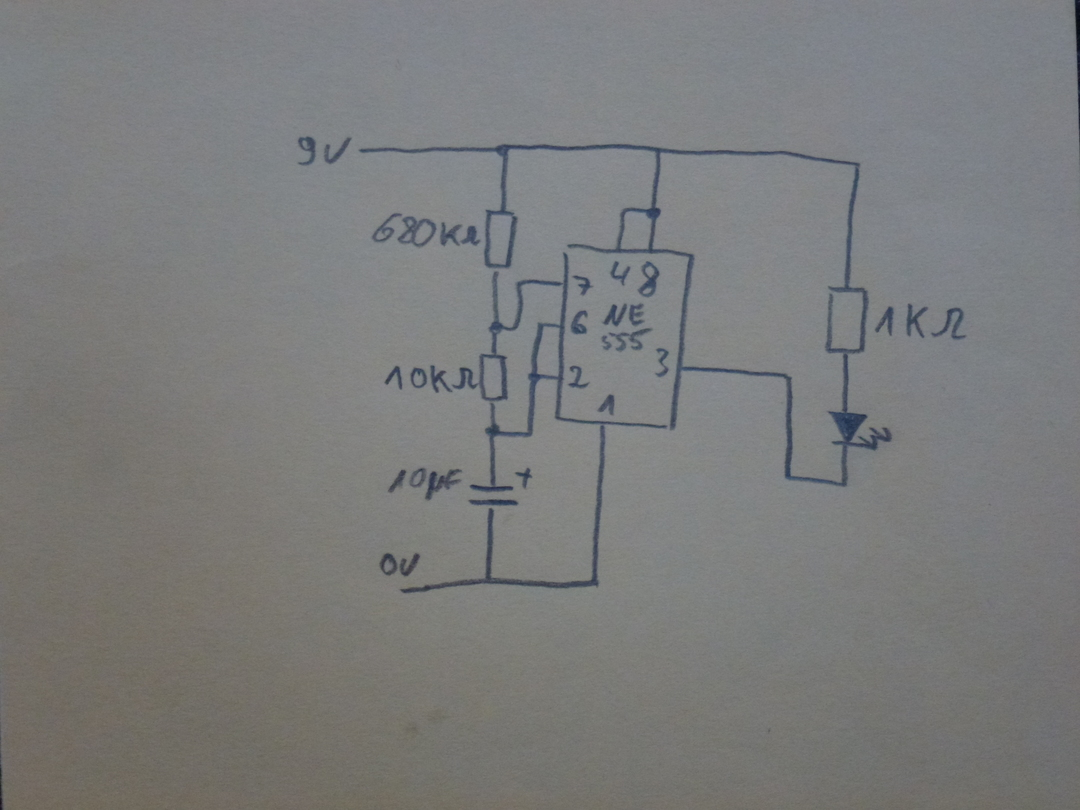capacitor.polarized: (468, 467, 533, 513)
diode.light_emitting: (826, 410, 894, 452)
integrated_cricuit.ne555: (553, 242, 695, 432)
junction: (643, 204, 662, 223), (483, 422, 502, 441), (486, 319, 504, 337), (493, 141, 512, 158), (586, 574, 604, 590), (512, 276, 528, 292), (525, 371, 542, 386), (521, 425, 536, 442), (480, 573, 497, 588), (651, 142, 667, 157), (780, 369, 796, 384), (837, 476, 852, 492), (534, 318, 548, 334), (617, 203, 631, 218), (509, 320, 523, 335), (781, 470, 796, 484), (850, 157, 865, 171)
resistor: (824, 282, 868, 356), (483, 208, 518, 273), (478, 352, 511, 404)
terminal: (395, 582, 410, 597), (356, 144, 367, 157)
text: (369, 211, 481, 250), (873, 302, 968, 342), (383, 364, 479, 394), (386, 466, 465, 502), (600, 302, 654, 352), (296, 134, 353, 167), (378, 550, 421, 578), (636, 259, 661, 299), (608, 259, 631, 289), (651, 346, 671, 380), (566, 363, 591, 390), (569, 308, 591, 337), (571, 273, 595, 297), (595, 393, 617, 418)
